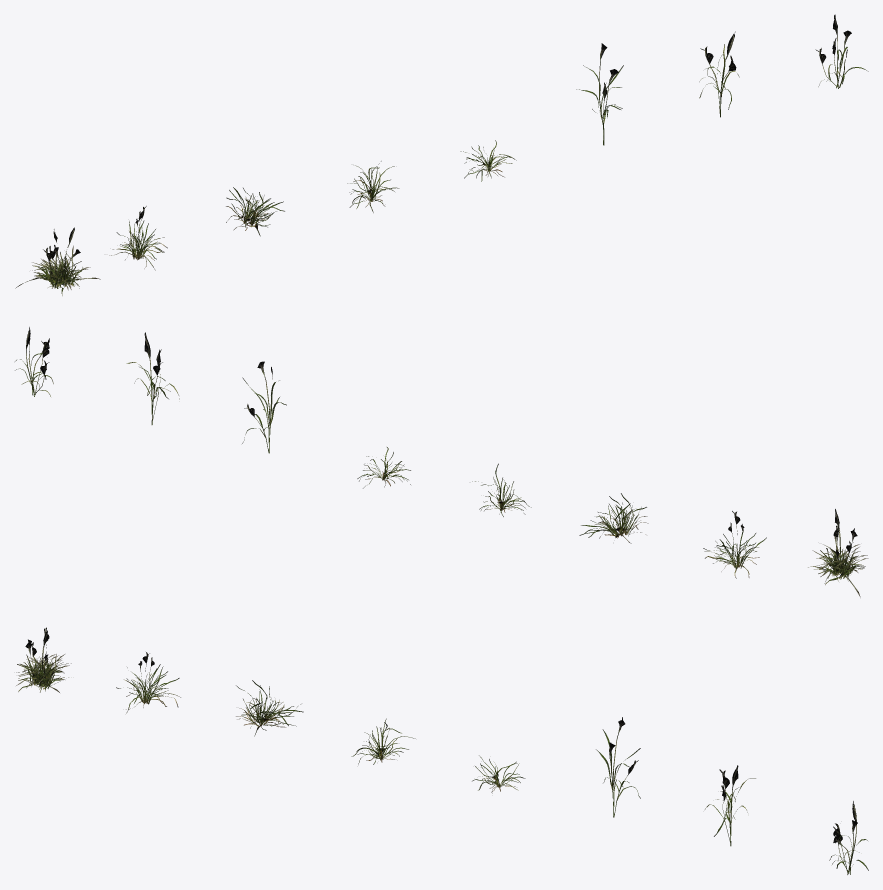
The model's file is grass_medium_01.glb.
The picture shows the model from 3 angles, top to bottom: view 1: azimuth 30°, elevation 25°; view 2: azimuth 150°, elevation 25°; view 3: azimuth 330°, elevation 25°; orthographic projection.
Parts seen in each view (by area): view 1: grass_medium_01_mid_a, grass_medium_01_mid_c, grass_medium_01_mid_b, grass_medium_01_small_a, grass_medium_01_tall_b, grass_medium_01_tall_c, grass_medium_01_tall_a; view 2: grass_medium_01_mid_a, grass_medium_01_mid_c, grass_medium_01_mid_b, grass_medium_01_tall_a, grass_medium_01_tall_b, grass_medium_01_tall_c, grass_medium_01_small_a; view 3: grass_medium_01_mid_a, grass_medium_01_mid_c, grass_medium_01_mid_b, grass_medium_01_tall_a, grass_medium_01_small_a, grass_medium_01_tall_b, grass_medium_01_tall_c, grass_medium_01_small_b.
Boxes of the visible parts, bbox=[...] form: grass_medium_01_mid_a: bbox=[15, 227, 100, 295]; grass_medium_01_mid_c: bbox=[226, 187, 284, 236]; grass_medium_01_mid_b: bbox=[109, 206, 167, 270]; grass_medium_01_small_a: bbox=[347, 161, 399, 212]; grass_medium_01_tall_b: bbox=[699, 31, 739, 117]; grass_medium_01_tall_c: bbox=[815, 14, 868, 88]; grass_medium_01_tall_a: bbox=[576, 43, 623, 145]; grass_medium_01_mid_a: bbox=[808, 509, 868, 597]; grass_medium_01_mid_c: bbox=[579, 493, 648, 543]; grass_medium_01_mid_b: bbox=[703, 511, 766, 578]; grass_medium_01_tall_a: bbox=[242, 361, 286, 453]; grass_medium_01_tall_b: bbox=[126, 332, 179, 424]; grass_medium_01_tall_c: bbox=[15, 327, 53, 396]; grass_medium_01_small_a: bbox=[472, 463, 531, 516]; grass_medium_01_mid_a: bbox=[16, 627, 71, 692]; grass_medium_01_mid_c: bbox=[236, 680, 303, 736]; grass_medium_01_mid_b: bbox=[116, 652, 180, 713]; grass_medium_01_tall_a: bbox=[596, 717, 640, 817]; grass_medium_01_small_a: bbox=[351, 718, 415, 764]; grass_medium_01_tall_b: bbox=[705, 765, 755, 846]; grass_medium_01_tall_c: bbox=[829, 801, 868, 874]; grass_medium_01_small_b: bbox=[472, 755, 525, 793].
Size of the model in its own units: 2.92 by 0.3226 by 0.3023.
1 material, 1 textured.
